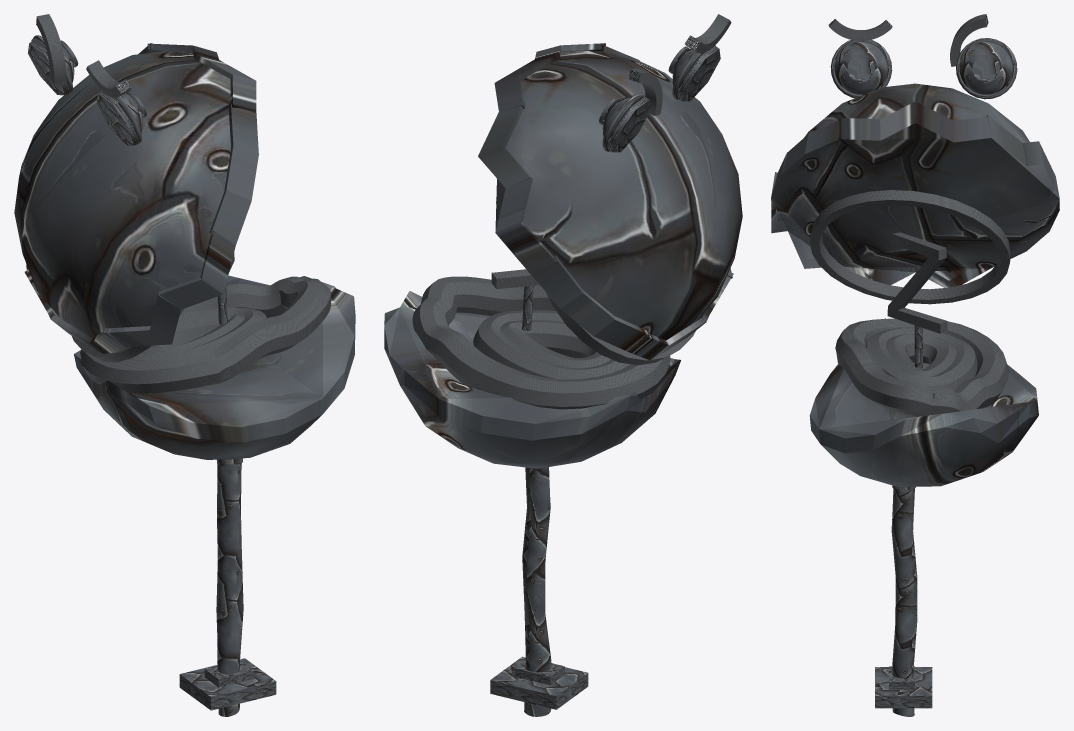
The model's file is BurguerStop.FBX.
The picture shows the model from 3 angles, left to right: view 1: azimuth 30°, elevation 25°; view 2: azimuth 150°, elevation 25°; view 3: azimuth 270°, elevation 25°; orthographic projection. The views are drawn at different scales.
Parts seen in each view (by area): view 1: Panes_demonstruo; view 2: Panes_demonstruo; view 3: Panes_demonstruo.
Boxes of the visible parts, x1,y1,x2,y2 form: Panes_demonstruo: [14, 14, 355, 716]; Panes_demonstruo: [384, 14, 742, 716]; Panes_demonstruo: [771, 14, 1059, 716].
Size of the model in its own units: 351 by 745 by 307.
